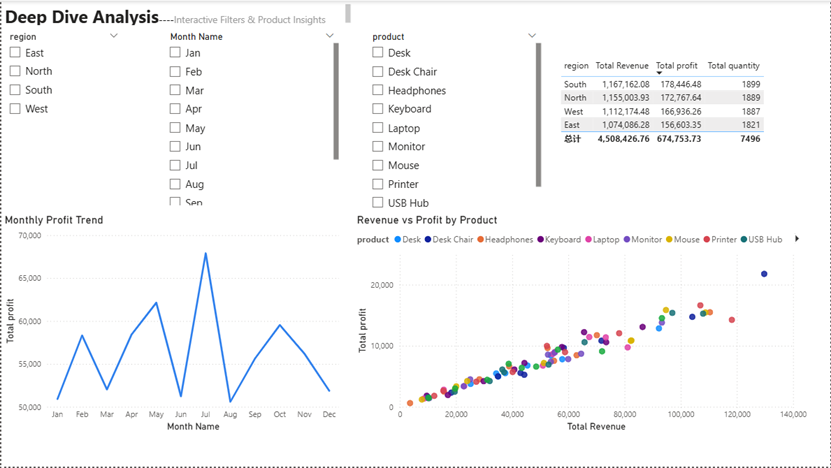

This screenshot's page, from the dashboard's own definition file:
{"tool":"powerbi","page":{"name":"第 2 页","canvas":[1280,720],"ordinal":1},"visuals":[{"type":"slicer","fields":{"Values":["retail_sales_dataset.region"]},"box":[0,42.1,192.7,278.5],"z":0},{"type":"slicer","fields":{"Values":["retail_sales_dataset.product"]},"box":[560.3,42.1,278.5,281.7],"z":1000},{"type":"slicer","fields":{"Values":["retail_sales_dataset.Month Name"]},"box":[247.7,42.1,278.5,278.5],"z":2000},{"type":"lineChart","title":"Monthly Profit Trend","fields":{"Y":["Sum(retail_sales_dataset.profit)"],"Category":["retail_sales_dataset.Month Name"]},"box":[0,328.7,526.2,341.7],"z":3000},{"type":"scatterChart","title":"Revenue vs Profit by Product","fields":{"X":["Sum(retail_sales_dataset.sales)"],"Y":["Sum(retail_sales_dataset.profit)"],"Series":["retail_sales_dataset.product"],"Category":["retail_sales_dataset.quantity"]},"box":[544.1,328.7,704.4,341.7],"z":4000},{"type":"tableEx","fields":{"Values":["retail_sales_dataset.region","Sum(retail_sales_dataset.sales)","Sum(retail_sales_dataset.profit)","Sum(retail_sales_dataset.quantity)"]},"box":[858.2,84.2,390.2,236.4],"z":5000},{"type":"textbox","box":[0,0,544.1,42.1],"z":5001}]}

Visuals, with their boxes in screenshot pixels (x1, y1, x2, y2), scaled from the page's 1280x720 canvas onto the 831x468 screenshot:
slicer - retail_sales_dataset.region: x1=0 y1=27 x2=125 y2=208
slicer - retail_sales_dataset.product: x1=364 y1=27 x2=545 y2=210
slicer - retail_sales_dataset.Month Name: x1=161 y1=27 x2=342 y2=208
"Monthly Profit Trend" lineChart: x1=0 y1=214 x2=342 y2=436
"Revenue vs Profit by Product" scatterChart: x1=353 y1=214 x2=811 y2=436
tableEx - retail_sales_dataset.region x Sum(retail_sales_dataset.sales): x1=557 y1=55 x2=810 y2=208
textbox: x1=0 y1=0 x2=353 y2=27
